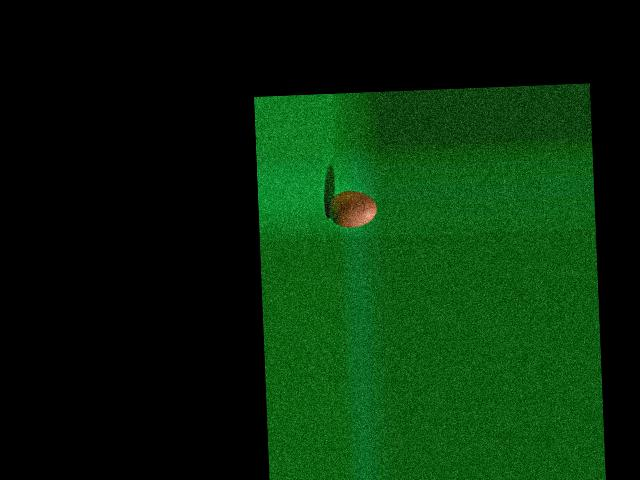egg: (326, 189, 376, 228)
